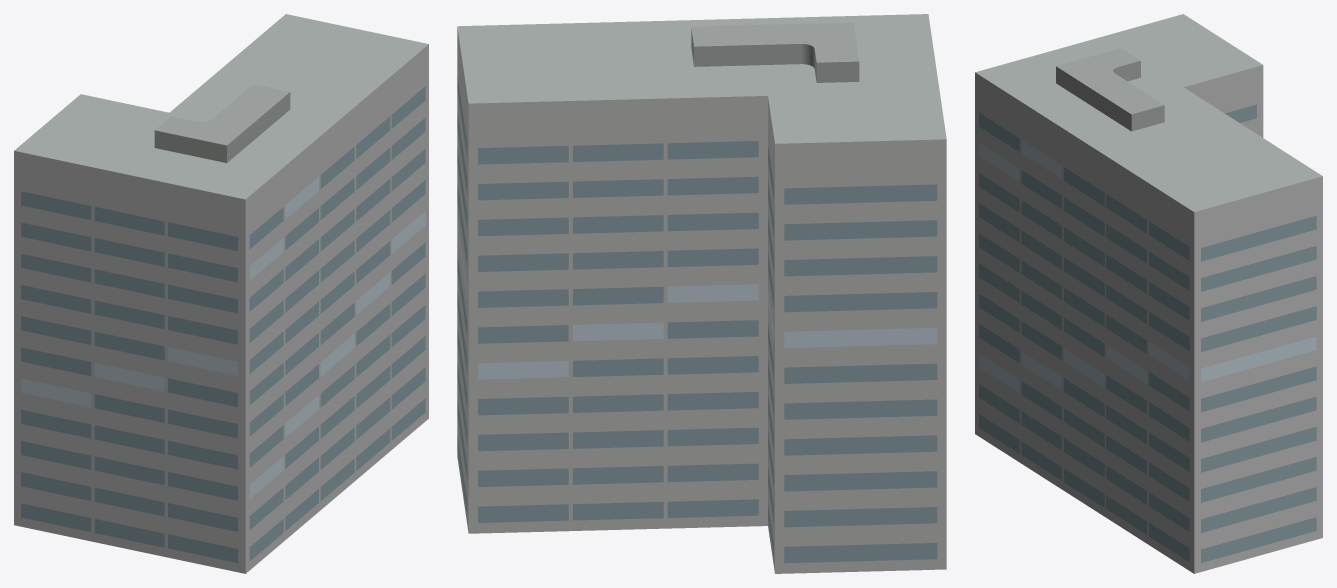
Rendered from apt-a10024026.glb.
3 renders of one model, left to right at view 1: azimuth 30°, elevation 25°; view 2: azimuth 150°, elevation 25°; view 3: azimuth 270°, elevation 25°, orthographic. The views are drawn at different scales.
Visible parts, largest first — view 1: apt-a10024026; view 2: apt-a10024026; view 3: apt-a10024026.
Boxes of the visible parts, x1,y1,x2,y2 form: apt-a10024026: (14, 14, 428, 573); apt-a10024026: (457, 14, 946, 573); apt-a10024026: (975, 14, 1322, 573).
Bounding box in the file's own units: 49.38 × 44 × 36.62.
